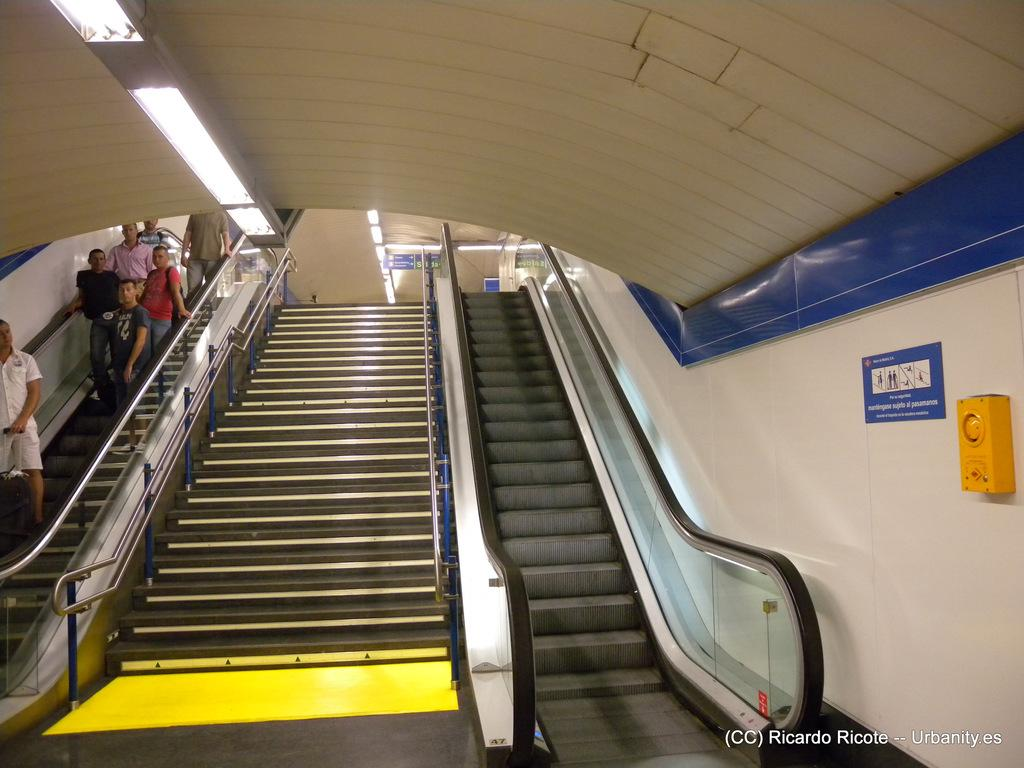Luggage-and-bags: (0, 425, 33, 546)
